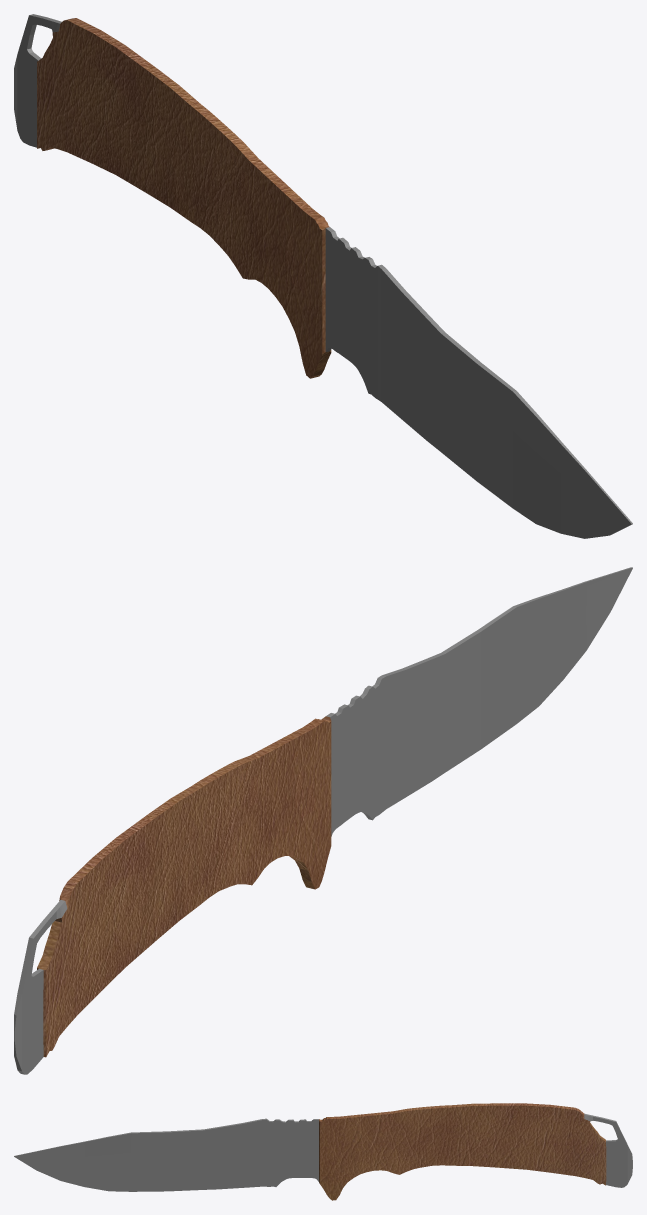
The model's file is knife.dae.
3 views of the same model, one above another, from view 1: azimuth 30°, elevation 25°; view 2: azimuth 150°, elevation 25°; view 3: azimuth 270°, elevation 25° (orthographic). The views are drawn at different scales.
Parts seen in each view (by area): view 1: Cube; view 2: Cube; view 3: Cube.
Part boxes in pixels (x1=…): Cube: x1=14, y1=14, x2=632, y2=538; Cube: x1=14, y1=567, x2=632, y2=1074; Cube: x1=14, y1=1103, x2=632, y2=1200.
Size of the model in its own units: 0.1059 by 12.14 by 2.05.
Materials: 2 (1 with a texture image).
